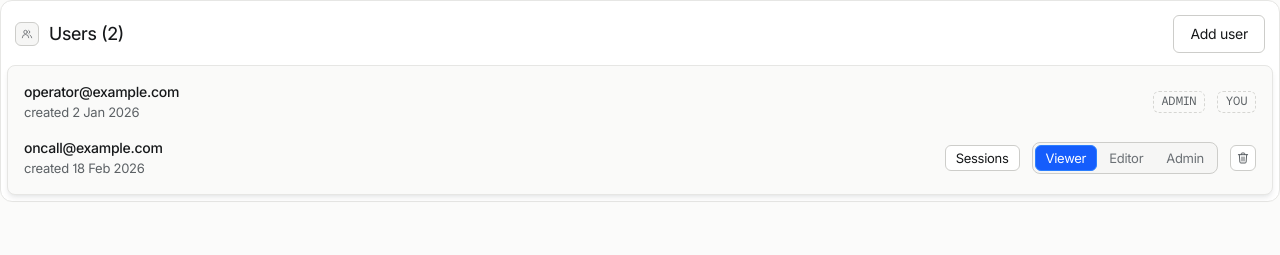
holds the role still while its change is being saved
Check: the element named "Role for oncall@example.com" is shown, box [1032, 142, 1218, 174]
Click the button "Editor" at (1126, 158), box [1098, 145, 1154, 171]
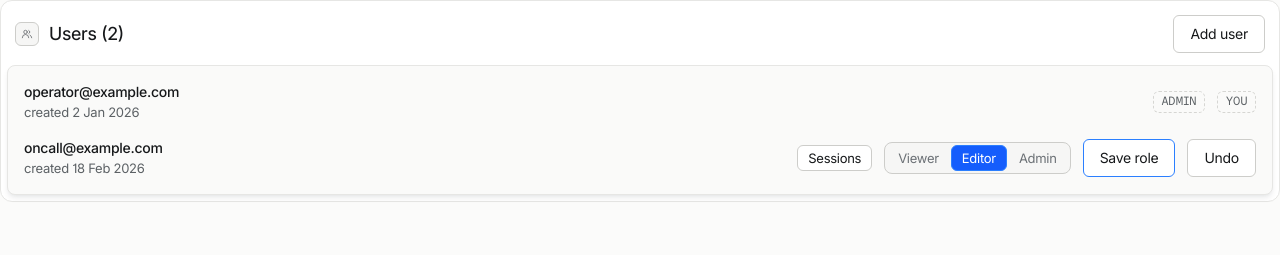
Click the button with aria-label "Save role for oncall@example.com" at (1129, 158), box [1083, 139, 1175, 177]
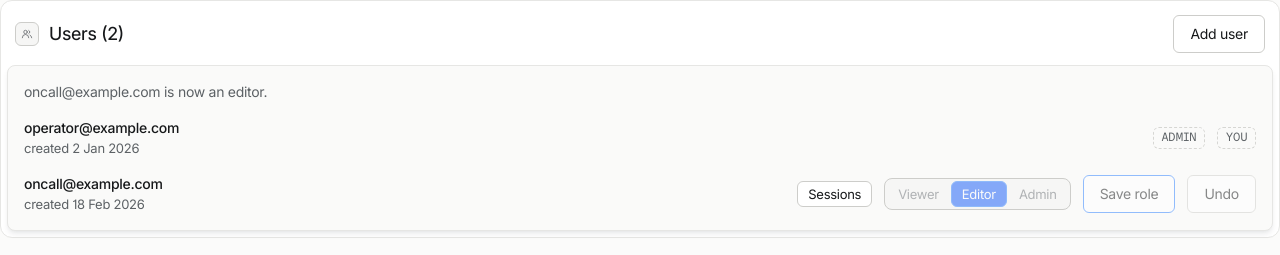
Check: the button "Editor" is shown, box [951, 181, 1007, 207]
Check: the text "oncall@example.com is now an editor." is shown, box [24, 83, 267, 100]
